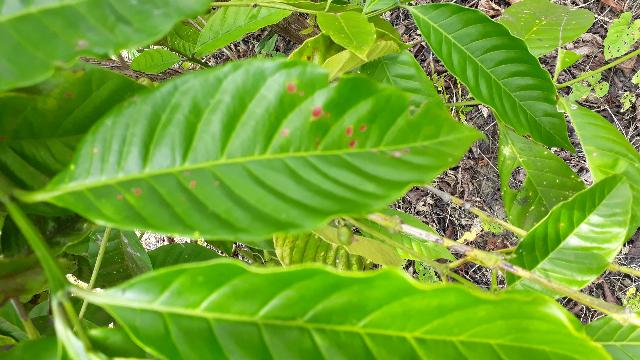red_spider_mite: (38, 54, 493, 240)
